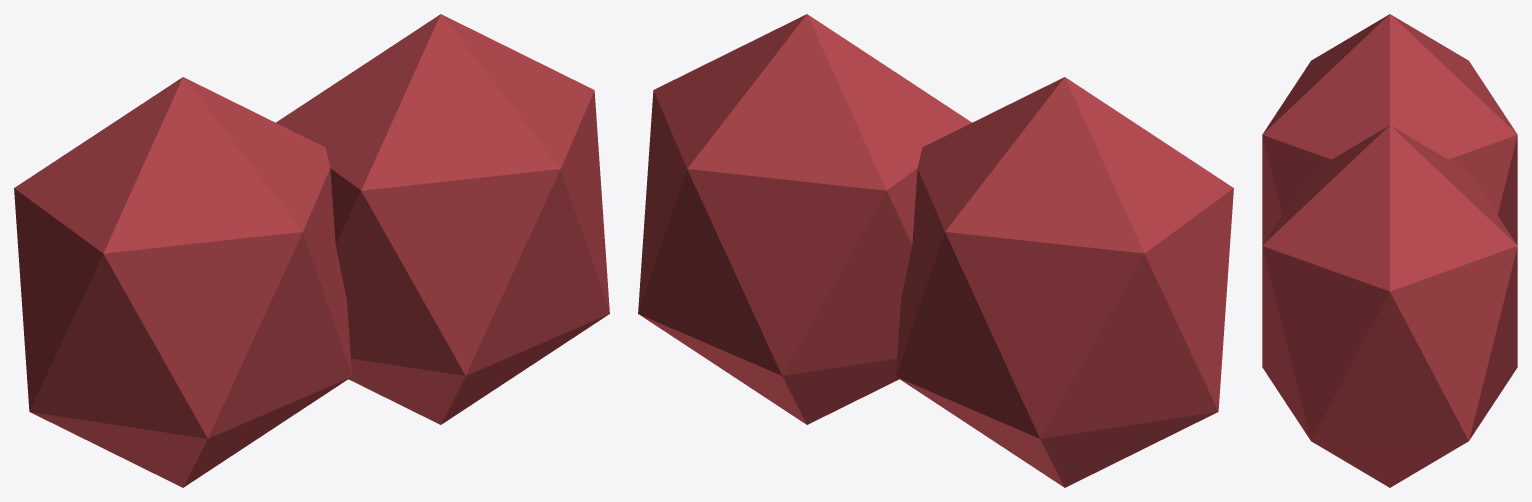
The model's file is wk_muscle_glute_v01.glb.
3 views of the same model, side by side, from view 1: azimuth 30°, elevation 25°; view 2: azimuth 150°, elevation 25°; view 3: azimuth 270°, elevation 25° (orthographic). The views are drawn at different scales.
Visible parts, largest first — view 1: GEO_MuscleGlute-1, GEO_MuscleGlute+1; view 2: GEO_MuscleGlute-1, GEO_MuscleGlute+1; view 3: GEO_MuscleGlute+1, GEO_MuscleGlute-1.
Part boxes in pixels (x1,y1,x2,y2): GEO_MuscleGlute-1: (14,77,351,487); GEO_MuscleGlute+1: (276,14,609,424); GEO_MuscleGlute-1: (896,77,1233,487); GEO_MuscleGlute+1: (638,14,971,424); GEO_MuscleGlute+1: (1262,125,1517,487); GEO_MuscleGlute-1: (1262,14,1517,244).
Size of the model in its own units: 0.4604 by 0.32 by 0.2042.
